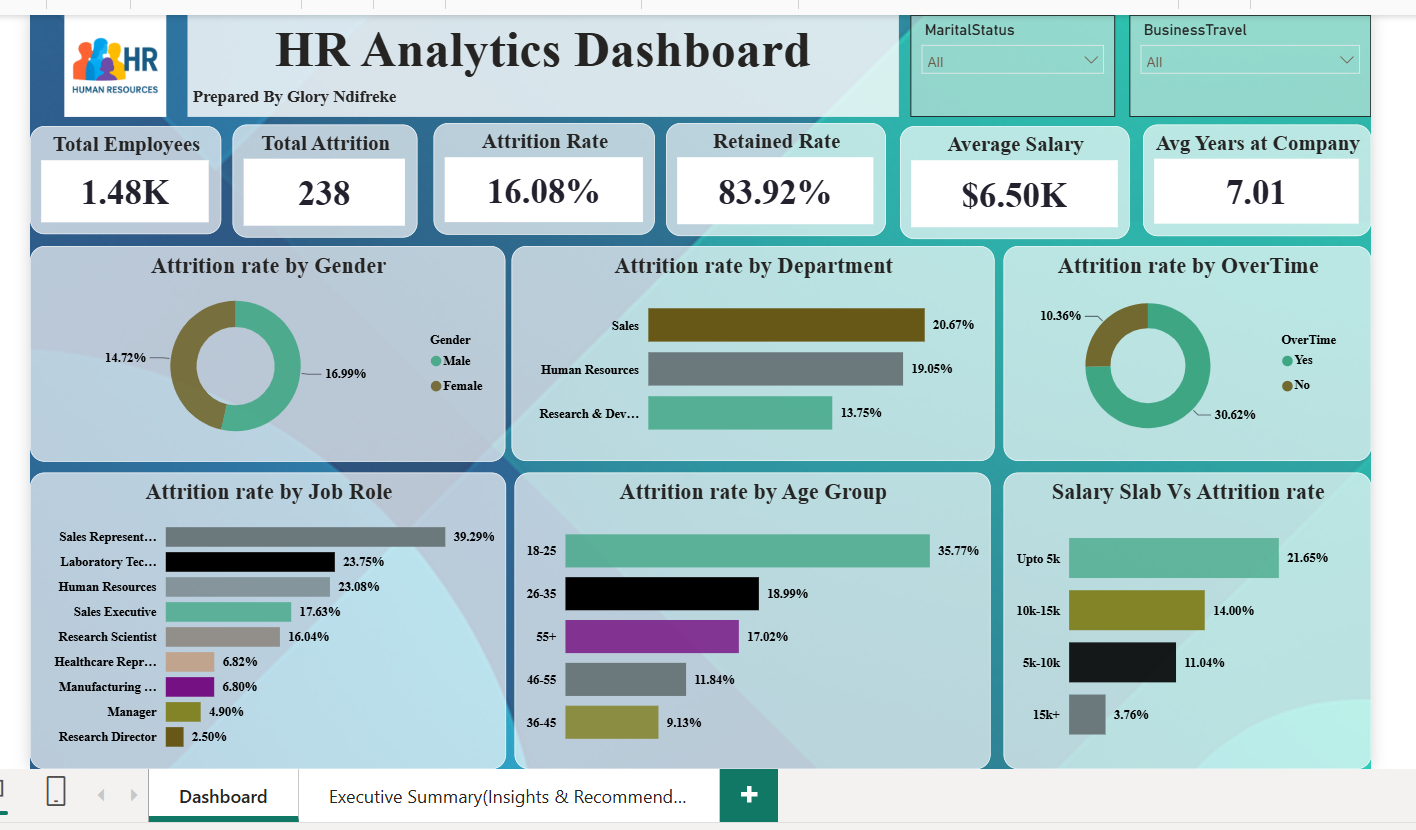

The dashboard page shown, as its layout file describes it:
{"tool":"powerbi","page":{"name":"Dashboard","canvas":[1280,720],"ordinal":0},"visuals":[{"type":"image","box":[11.1,0,140,97],"z":0},{"type":"textbox","box":[151.1,0,679.2,97],"z":1000},{"type":"cardVisual","title":"Total Employees","fields":{"Data":["CountNonNull(HR_Analytics.EmpID)"]},"box":[0,106.6,182.9,103.4],"z":2000},{"type":"cardVisual","title":"Total Attrition","fields":{"Data":["Sum(HR_Analytics.Attrition count)"]},"box":[194.1,105,176.6,108.2],"z":3000},{"type":"cardVisual","title":" Attrition Rate","fields":{"Data":["HR_Analytics.Attrition rate"]},"box":[384.9,103.4,211.6,106.6],"z":4000},{"type":"cardVisual","title":"Retained  Rate","fields":{"Data":["HR_Analytics.Retained rate"]},"box":[607.6,103.4,210,108.2],"z":5000},{"type":"cardVisual","title":"Avg Years at Company","fields":{"Data":["Avg(HR_Analytics.YearsAtCompany)"]},"box":[1062.5,105,217.9,106.6],"z":6000},{"type":"cardVisual","title":"Average Salary","fields":{"Data":["Avg(HR_Analytics.MonthlyIncome)"]},"box":[830.3,106.6,219.5,108.2],"z":7000},{"type":"barChart","title":" Attrition rate by Department","fields":{"Category":["HR_Analytics.Department"],"Y":["HR_Analytics.Attrition rate"]},"box":[459.7,221.1,461.3,205.2],"z":8000},{"type":"clusteredBarChart","title":"Attrition rate by Job Role","fields":{"Category":["HR_Analytics.JobRole"],"Y":["HR_Analytics.Attrition rate"]},"box":[0,437.4,454.9,283.1],"z":9000},{"type":"donutChart","title":"Attrition rate by Gender","fields":{"Y":["HR_Analytics.Attrition rate"],"Category":["HR_Analytics.Gender"]},"box":[0,221.1,454.3,205.9],"z":10000},{"type":"donutChart","title":"Attrition rate by OverTime","fields":{"Category":["HR_Analytics.OverTime"],"Y":["HR_Analytics.Attrition rate"]},"box":[928.9,221.1,351.5,205.2],"z":11000},{"type":"barChart","title":"Salary Slab Vs Attrition rate","fields":{"Y":["HR_Analytics.Attrition rate"],"Category":["HR_Analytics.SalarySlab"]},"box":[928.9,437.4,351.5,283.1],"z":12000},{"type":"clusteredBarChart","title":"Attrition rate by Age Group","fields":{"Category":["HR_Analytics.AgeGroup"],"Y":["HR_Analytics.Attrition rate"]},"box":[462.9,437.4,454.9,283.1],"z":13000},{"type":"slicer","fields":{"Values":["HR_Analytics.MaritalStatus"]},"box":[841.4,0,195.6,97],"z":14000},{"type":"slicer","fields":{"Values":["HR_Analytics.BusinessTravel"]},"box":[1049.8,0,230.6,97],"z":15000},{"type":"textbox","box":[151.1,63.6,248.1,33.4],"z":16000}]}

Visuals, with their boxes in screenshot pixels (x1, y1, x2, y2):
image: [left=34, top=7, right=181, bottom=109]
textbox: [left=181, top=7, right=896, bottom=109]
"Total Employees" cardVisual: [left=22, top=120, right=215, bottom=228]
"Total Attrition" cardVisual: [left=226, top=118, right=412, bottom=232]
" Attrition Rate" cardVisual: [left=427, top=116, right=650, bottom=228]
"Retained  Rate" cardVisual: [left=661, top=116, right=882, bottom=230]
"Avg Years at Company" cardVisual: [left=1140, top=118, right=1369, bottom=230]
"Average Salary" cardVisual: [left=896, top=120, right=1127, bottom=233]
" Attrition rate by Department" barChart: [left=506, top=240, right=991, bottom=456]
"Attrition rate by Job Role" clusteredBarChart: [left=22, top=468, right=501, bottom=766]
"Attrition rate by Gender" donutChart: [left=22, top=240, right=500, bottom=457]
"Attrition rate by OverTime" donutChart: [left=1000, top=240, right=1369, bottom=456]
"Salary Slab Vs Attrition rate" barChart: [left=1000, top=468, right=1369, bottom=766]
"Attrition rate by Age Group" clusteredBarChart: [left=509, top=468, right=988, bottom=766]
slicer - HR_Analytics.MaritalStatus: [left=908, top=7, right=1113, bottom=109]
slicer - HR_Analytics.BusinessTravel: [left=1127, top=7, right=1369, bottom=109]
textbox: [left=181, top=74, right=442, bottom=109]
